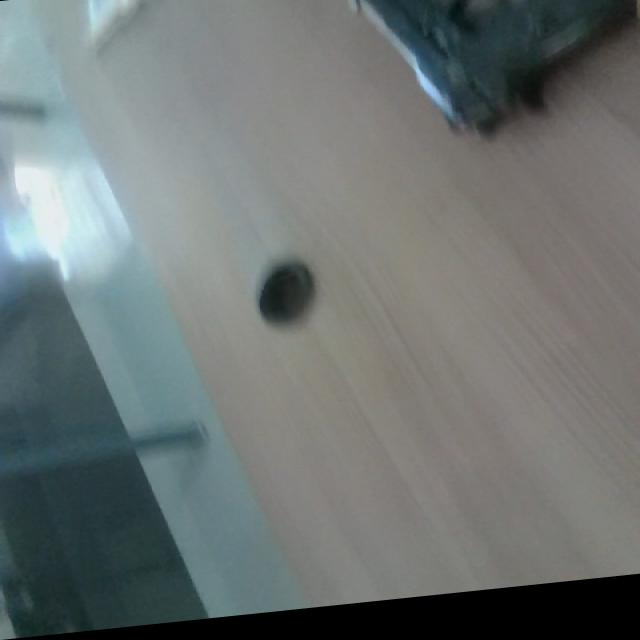handgun: (315, 0, 640, 185)
